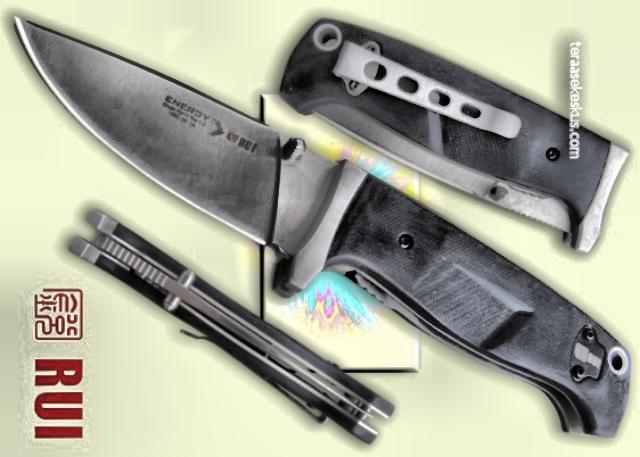knife: (8, 8, 334, 260)
